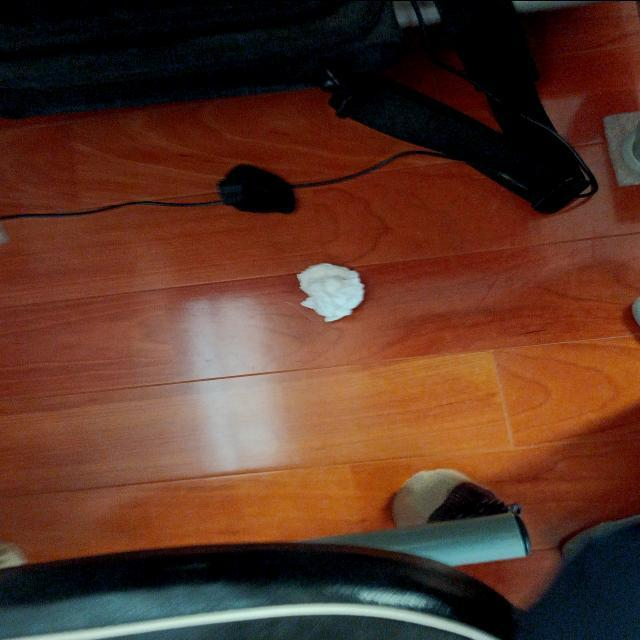Paper: (284, 260, 390, 321)
